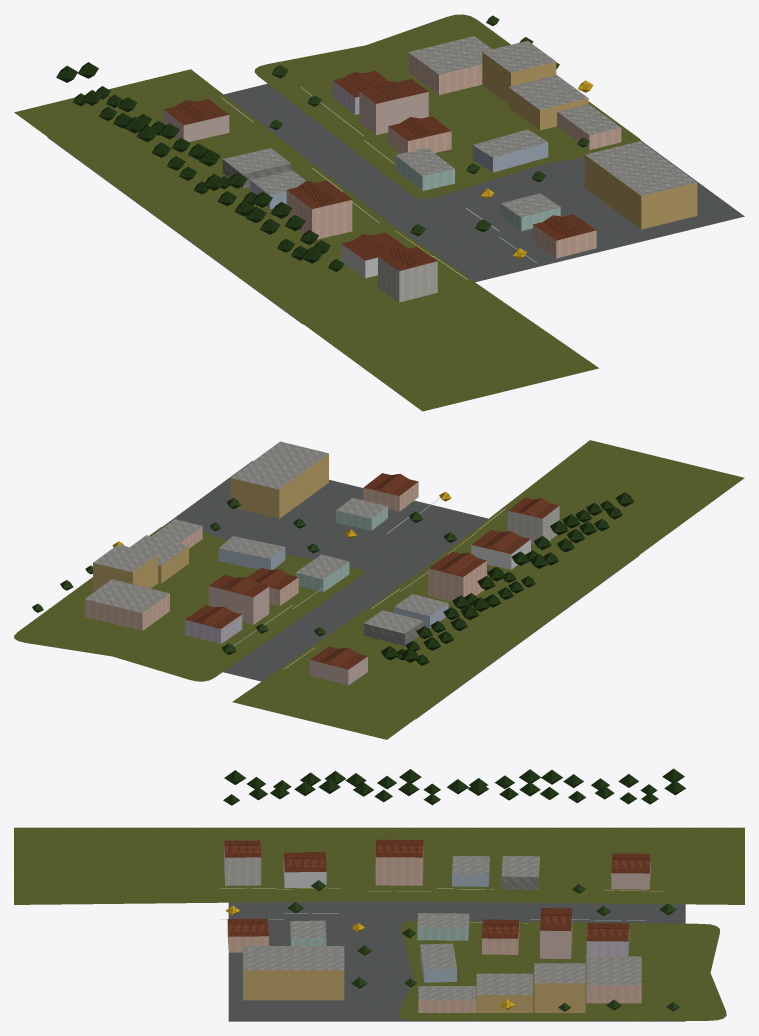
The model's file is cidade_S00_04_lod.gltf.
3 renders of one model, top to bottom at view 1: azimuth 30°, elevation 25°; view 2: azimuth 150°, elevation 25°; view 3: azimuth 270°, elevation 25°, orthographic. The views are drawn at different scales.
Visible parts, largest first — view 1: S00_04_Chao_LOD2, S00_04_Edificios_LOD1, S00_04_Silhueta_LOD2, S00_04_Vegetacao_LOD2; view 2: S00_04_Chao_LOD2, S00_04_Edificios_LOD1, S00_04_Silhueta_LOD2, S00_04_Vegetacao_LOD2; view 3: S00_04_Chao_LOD2, S00_04_Edificios_LOD1, S00_04_Silhueta_LOD2, S00_04_Vegetacao_LOD2.
Part boxes in pixels (x1,y1,x2,y2): S00_04_Chao_LOD2: (14,14,744,411); S00_04_Edificios_LOD1: (163,36,697,302); S00_04_Silhueta_LOD2: (163,70,596,301); S00_04_Vegetacao_LOD2: (56,15,593,271); S00_04_Chao_LOD2: (14,440,744,739); S00_04_Edificios_LOD1: (85,441,559,685); S00_04_Silhueta_LOD2: (184,473,559,684); S00_04_Vegetacao_LOD2: (32,491,634,665); S00_04_Chao_LOD2: (14,827,744,1021); S00_04_Edificios_LOD1: (219,844,663,1012); S00_04_Silhueta_LOD2: (224,839,650,958); S00_04_Vegetacao_LOD2: (223,768,685,1011).
Size of the model in its own units: 101 by 15.9 by 160.
16 materials, 16 textured.
